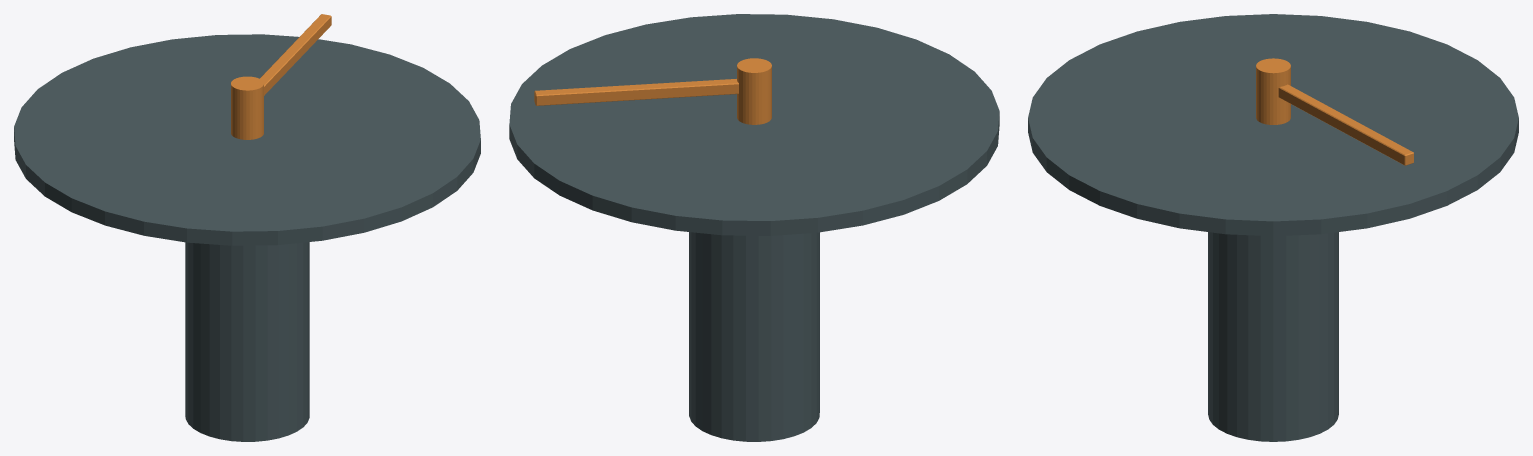
Rendered from wsc-kit-002-station4-spinner.glb.
3 views of the same model, side by side, from view 1: azimuth 30°, elevation 25°; view 2: azimuth 150°, elevation 25°; view 3: azimuth 270°, elevation 25° (orthographic). The views are drawn at different scales.
Parts seen in each view (by area): view 1: Movers_Disc, Movers_Pedestal, Movers_Axle, Movers_SweepArm; view 2: Movers_Disc, Movers_Pedestal, Movers_SweepArm, Movers_Axle; view 3: Movers_Disc, Movers_Pedestal, Movers_SweepArm, Movers_Axle.
Part boxes in pixels (box(x1,y1,x2,y2)): Movers_Disc: box(14, 34, 480, 245); Movers_Pedestal: box(185, 242, 309, 441); Movers_Axle: box(231, 76, 263, 139); Movers_SweepArm: box(260, 14, 331, 95); Movers_Disc: box(509, 14, 999, 235); Movers_Pedestal: box(689, 232, 819, 441); Movers_SweepArm: box(534, 79, 738, 105); Movers_Axle: box(737, 58, 771, 124); Movers_Disc: box(1028, 14, 1518, 236); Movers_Pedestal: box(1208, 232, 1338, 441); Movers_SweepArm: box(1278, 84, 1413, 165); Movers_Axle: box(1256, 58, 1290, 124).
Bounding box in the file's own units: 9 × 7.05 × 9.
